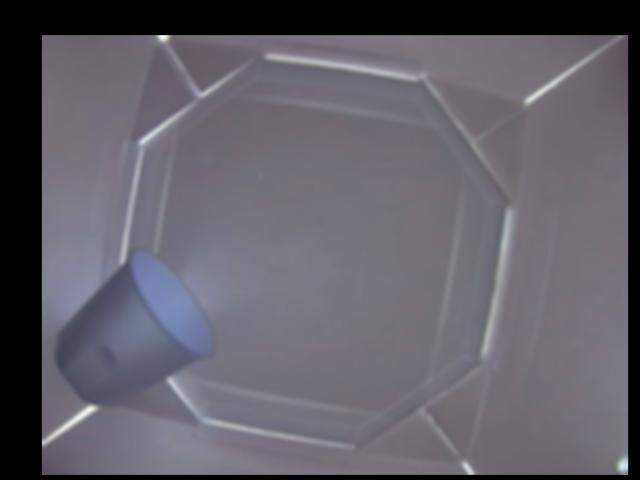Cup: (51, 247, 214, 408)
